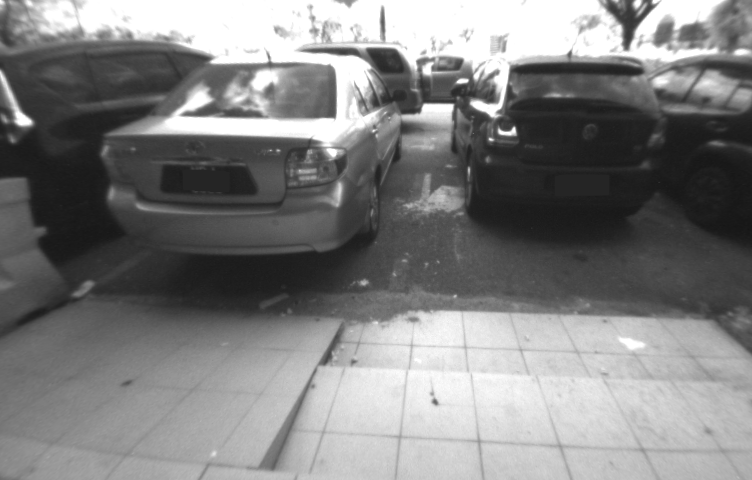down_steps: (289, 304, 742, 478)
mixed_gradient: (204, 309, 401, 480)
